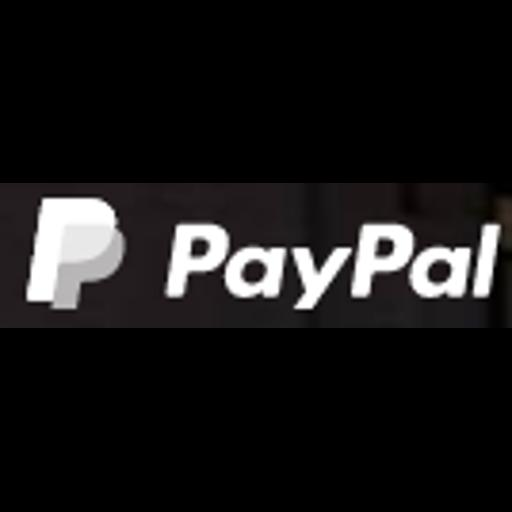PayPal: (0, 183, 512, 328)
